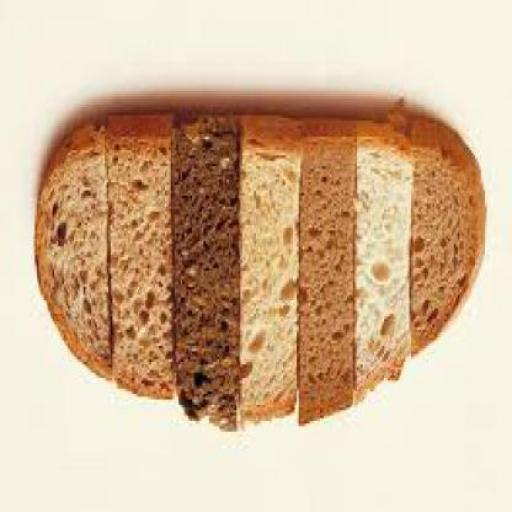biodegradable: (36, 102, 487, 437), (175, 115, 242, 434), (236, 115, 303, 431), (107, 116, 179, 405), (38, 126, 112, 386), (300, 122, 357, 432), (356, 115, 416, 408), (415, 123, 487, 362)
